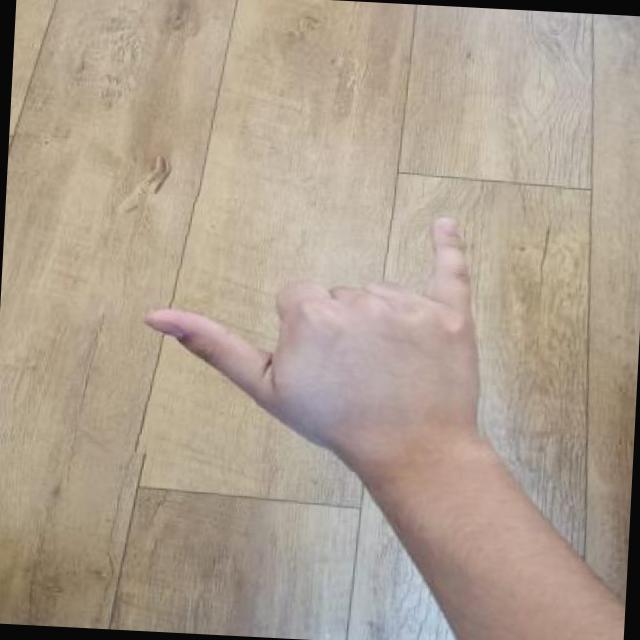Y: (124, 193, 502, 484)
